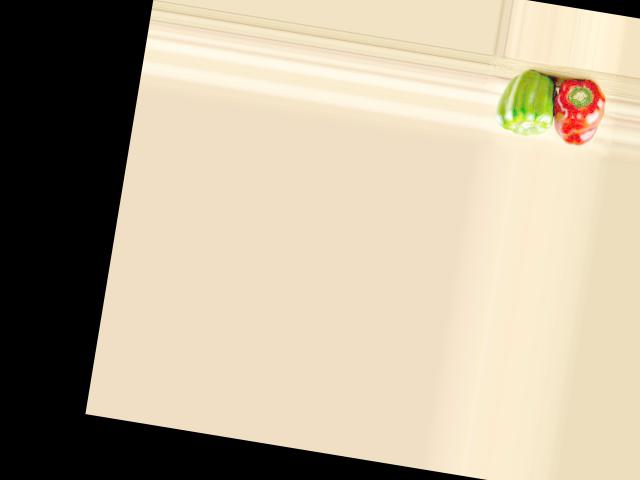bell_pepper: (545, 75, 610, 149)
